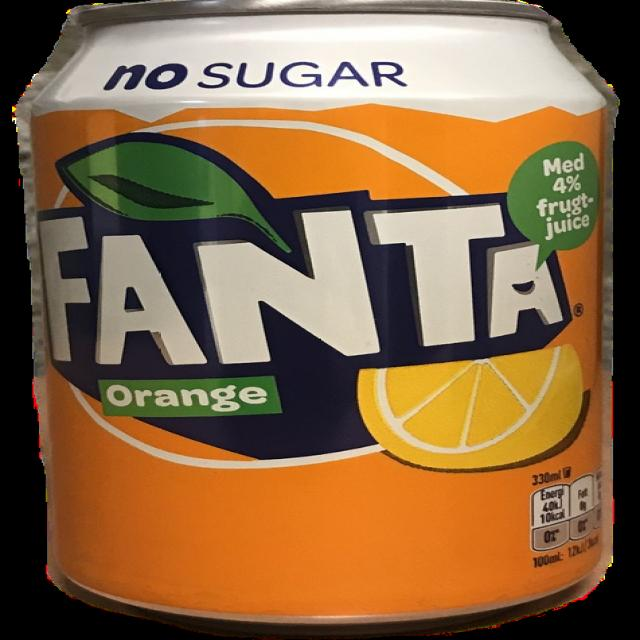fanta: (35, 0, 608, 626)
